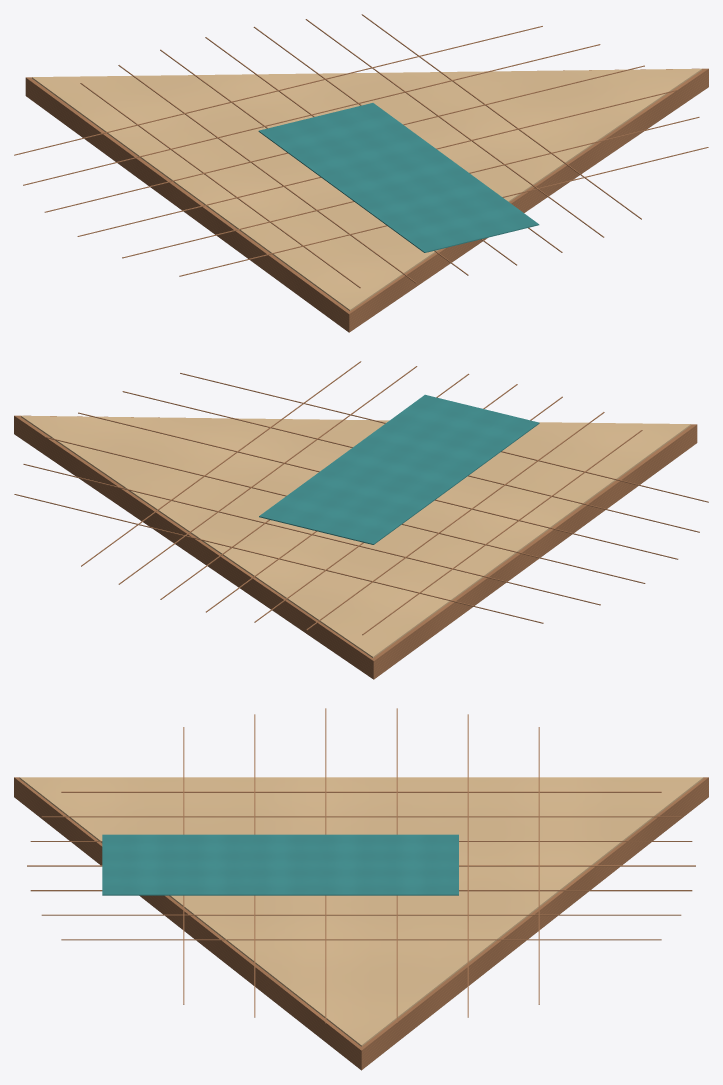
The model's file is atlas100-s091-a07.lod2.glb.
3 renders of one model, top to bottom at view 1: azimuth 30°, elevation 25°; view 2: azimuth 150°, elevation 25°; view 3: azimuth 270°, elevation 25°, orthographic. The views are drawn at different scales.
Visible parts, largest first — view 1: atlas100-s091-a07:part-001, atlas100-s091-a07:part-021, atlas100-s091-a07:part-000, atlas100-s091-a07:part-015, atlas100-s091-a07:part-014, atlas100-s091-a07:part-016, atlas100-s091-a07:part-017, atlas100-s091-a07:part-018, atlas100-s091-a07:part-019, atlas100-s091-a07:part-005, atlas100-s091-a07:part-009, atlas100-s091-a07:part-010 (+1 smaller); view 2: atlas100-s091-a07:part-001, atlas100-s091-a07:part-021, atlas100-s091-a07:part-000, atlas100-s091-a07:part-015, atlas100-s091-a07:part-014, atlas100-s091-a07:part-017, atlas100-s091-a07:part-016, atlas100-s091-a07:part-018, atlas100-s091-a07:part-019, atlas100-s091-a07:part-009, atlas100-s091-a07:part-005, atlas100-s091-a07:part-010 (+1 smaller); view 3: atlas100-s091-a07:part-001, atlas100-s091-a07:part-021, atlas100-s091-a07:part-000, atlas100-s091-a07:part-005, atlas100-s091-a07:part-009, atlas100-s091-a07:part-004, atlas100-s091-a07:part-010, atlas100-s091-a07:part-007, atlas100-s091-a07:part-008, atlas100-s091-a07:part-015.
Boxes of the visible parts, x1,y1,x2,y2 form: atlas100-s091-a07:part-001: [32, 68, 701, 310]; atlas100-s091-a07:part-021: [258, 103, 539, 252]; atlas100-s091-a07:part-000: [25, 68, 708, 332]; atlas100-s091-a07:part-015: [23, 44, 600, 185]; atlas100-s091-a07:part-014: [14, 26, 542, 155]; atlas100-s091-a07:part-016: [44, 65, 644, 212]; atlas100-s091-a07:part-017: [77, 89, 677, 236]; atlas100-s091-a07:part-018: [122, 117, 699, 258]; atlas100-s091-a07:part-019: [179, 147, 708, 276]; atlas100-s091-a07:part-005: [118, 65, 416, 283]; atlas100-s091-a07:part-009: [305, 19, 604, 237]; atlas100-s091-a07:part-010: [361, 14, 641, 219]; atlas100-s091-a07:part-001: [21, 415, 690, 657]; atlas100-s091-a07:part-021: [259, 394, 539, 544]; atlas100-s091-a07:part-000: [14, 415, 697, 679]; atlas100-s091-a07:part-015: [23, 464, 600, 605]; atlas100-s091-a07:part-014: [14, 494, 543, 623]; atlas100-s091-a07:part-017: [78, 412, 678, 559]; atlas100-s091-a07:part-016: [45, 436, 645, 583]; atlas100-s091-a07:part-018: [122, 391, 699, 532]; atlas100-s091-a07:part-019: [180, 373, 708, 502]; atlas100-s091-a07:part-009: [118, 366, 417, 584]; atlas100-s091-a07:part-005: [306, 412, 604, 630]; atlas100-s091-a07:part-010: [81, 361, 361, 566]; atlas100-s091-a07:part-001: [19, 777, 703, 1046]; atlas100-s091-a07:part-021: [102, 834, 458, 895]; atlas100-s091-a07:part-000: [14, 777, 708, 1070]; atlas100-s091-a07:part-005: [41, 816, 681, 817]; atlas100-s091-a07:part-009: [41, 914, 681, 915]; atlas100-s091-a07:part-004: [61, 791, 661, 792]; atlas100-s091-a07:part-010: [61, 939, 661, 940]; atlas100-s091-a07:part-007: [27, 865, 695, 866]; atlas100-s091-a07:part-008: [30, 890, 692, 891]; atlas100-s091-a07:part-015: [467, 714, 468, 1017].
Bounding box in the file's own units: 12.43 × 0.404 × 10.76.
Materials: 3 (3 with a texture image).
